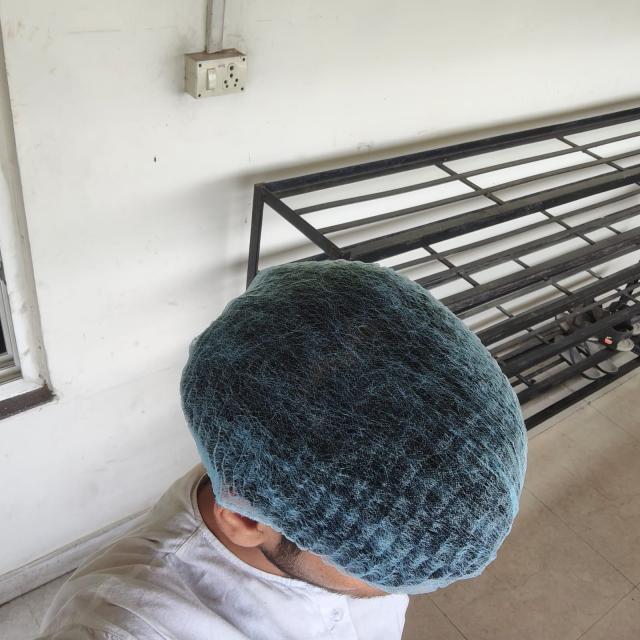hairnet-detection: (180, 260, 527, 592)
